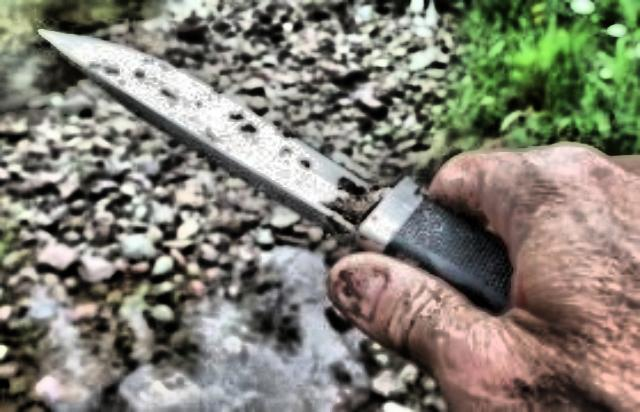knife: (26, 14, 538, 362)
